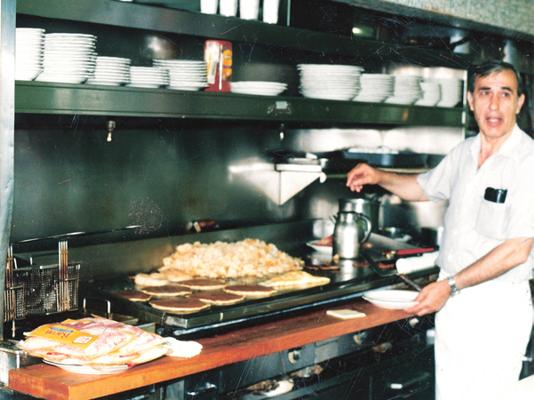person: (345, 60, 534, 400)
